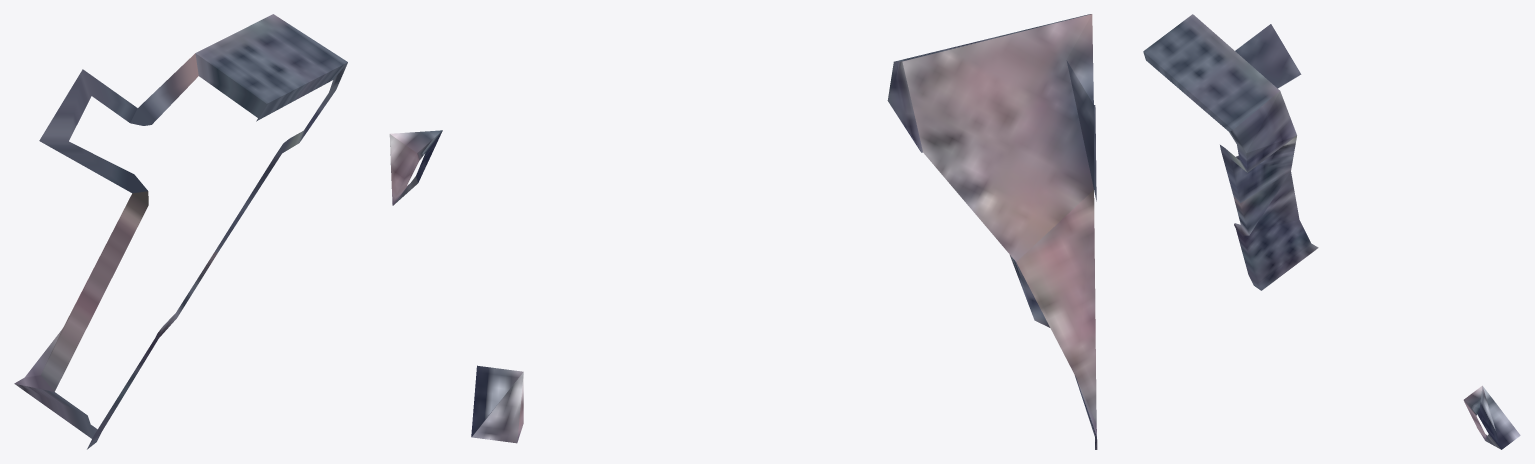
3 renders of one model, left to right at view 1: azimuth 30°, elevation 25°; view 2: azimuth 150°, elevation 25°; view 3: azimuth 270°, elevation 25°, orthographic. The views are drawn at different scales.
Size of the model in its own units: 55.94 by 40.67 by 47.22.
Materials: 1 (1 with a texture image).
